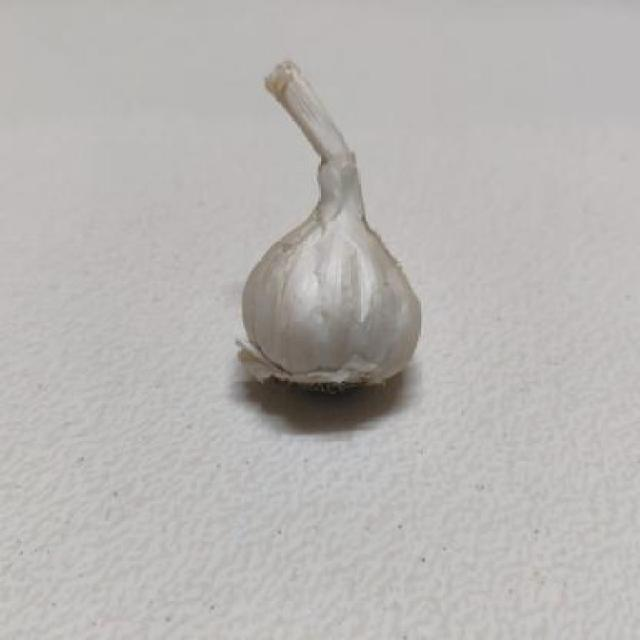Garlic: (212, 44, 438, 413)
